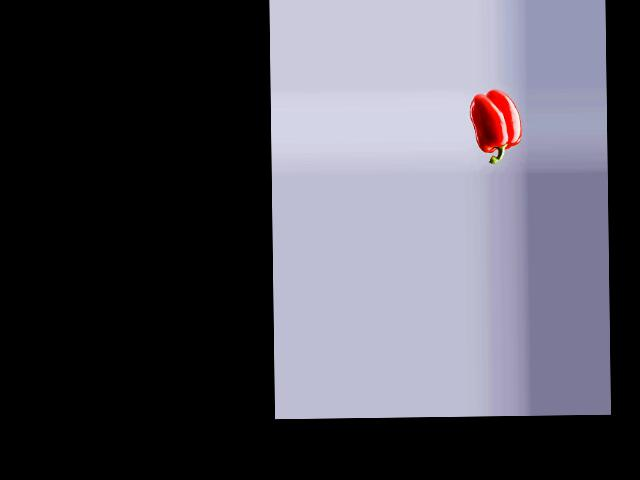bell_pepper: (468, 91, 524, 164)
